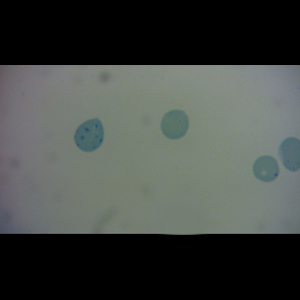aggregate reticulocyte: (73, 116, 105, 154)
erythrocyte: (160, 108, 191, 141)
punctate reticulocyte: (251, 154, 281, 183)
